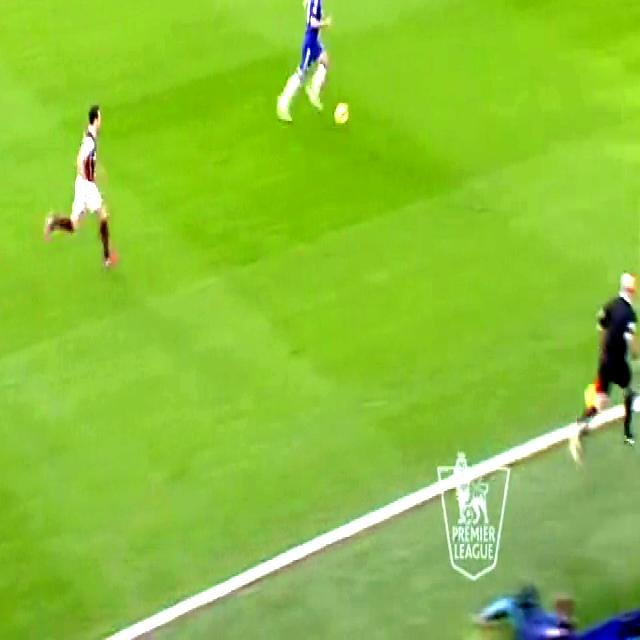ball: (329, 95, 355, 140)
soccer-player: (41, 79, 126, 286), (264, 0, 330, 128)
